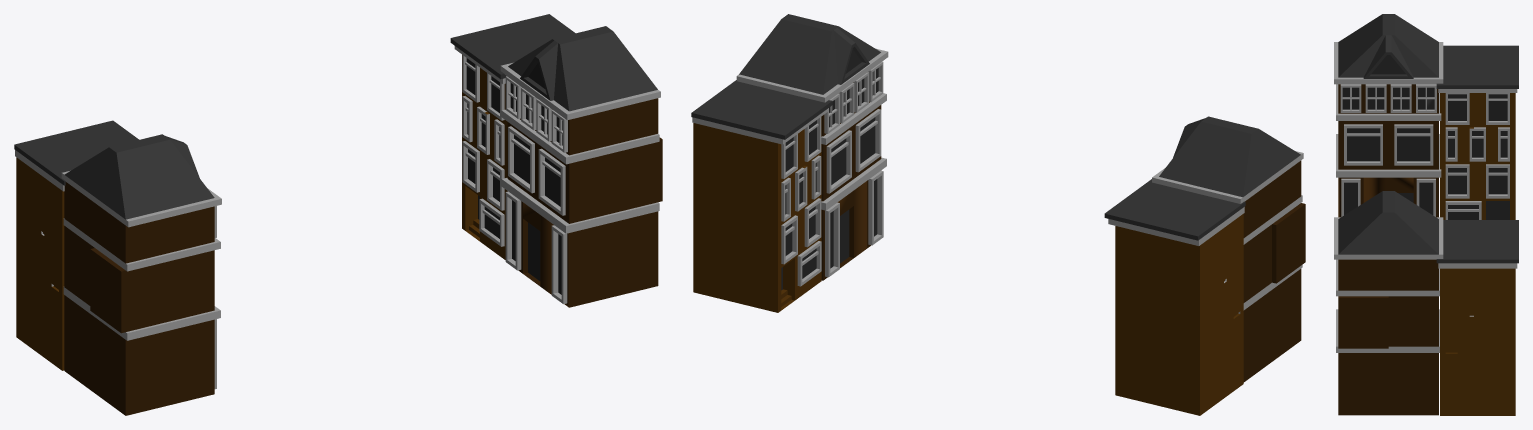
File: House4.fbx
3 renders of one model, left to right at view 1: azimuth 30°, elevation 25°; view 2: azimuth 150°, elevation 25°; view 3: azimuth 270°, elevation 25°, orthographic. The views are drawn at different scales.
Parts seen in each view (by area): view 1: House2; view 2: House2; view 3: House2.
Part boxes in pixels (<box>): House2: <box>14,14,662,415</box>; House2: <box>691,14,1305,415</box>; House2: <box>1334,14,1518,415</box>.
Bounding box in the file's own units: 3250 × 1372 × 1172.
